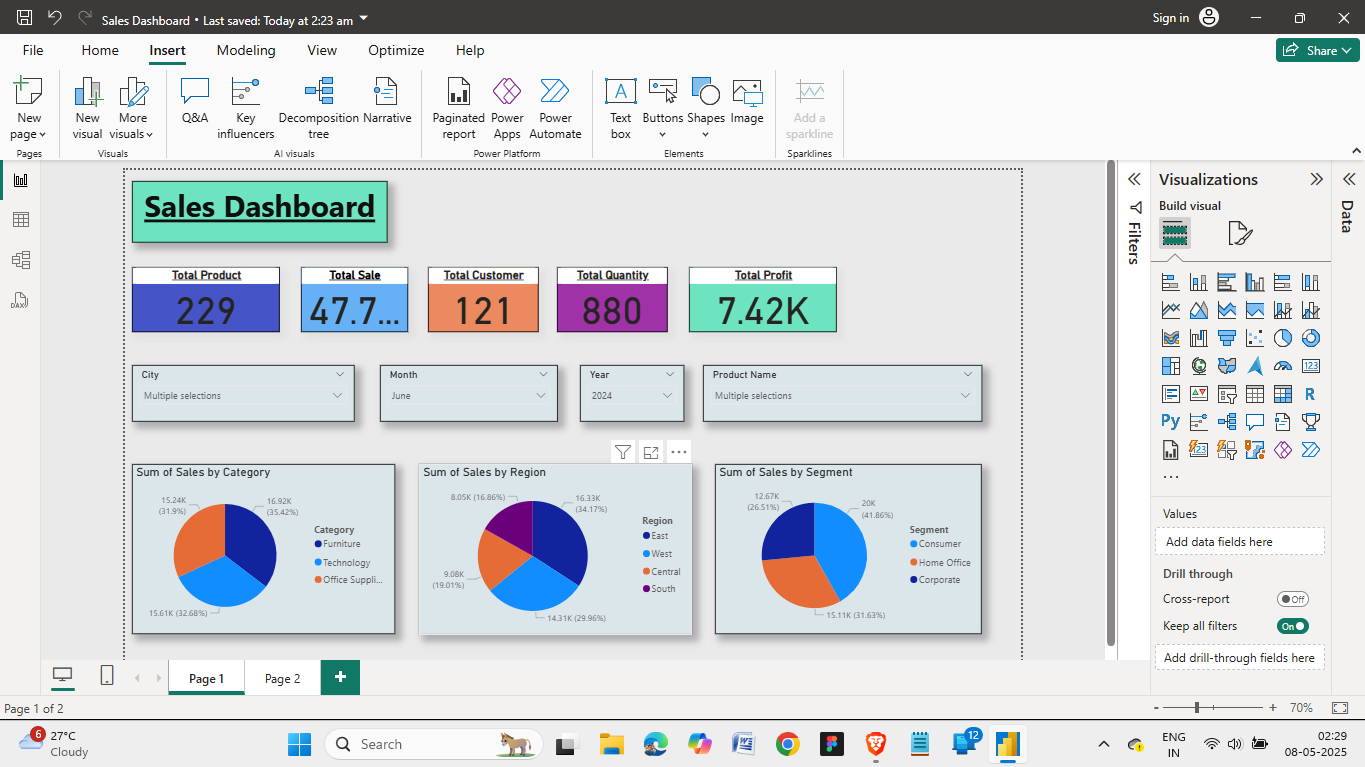

This screenshot's page, from the dashboard's own definition file:
{"tool":"powerbi","page":{"name":"Page 1","canvas":[1280,720],"ordinal":0},"visuals":[{"type":"textbox","box":[10,16.2,365,87.5],"z":0},{"type":"slicer","fields":{"Values":["Sales Overview Data xlsx - Sales Data.City"]},"box":[10,278.8,317.5,81.2],"z":1000},{"type":"slicer","fields":{"Values":["Sales Overview Data xlsx - Sales Data.Product Name"]},"box":[825,278.8,398.8,81.2],"z":2000},{"type":"slicer","fields":{"Values":["Sales Overview Data xlsx - Sales Data.Order Date.Variation.Date Hierarchy.Month"]},"box":[363.8,278.8,253.8,81.2],"z":3000},{"type":"slicer","fields":{"Values":["Sales Overview Data xlsx - Sales Data.Order Date.Variation.Date Hierarchy.Year"]},"box":[650,278.8,148.8,81.2],"z":4000},{"type":"card","title":"Total Sale","fields":{"Values":["Sum(Sales Overview Data xlsx - Sales Data.Sales)"]},"box":[251.2,138.8,152.5,92.5],"z":5000},{"type":"card","title":"Total Profit","fields":{"Values":["Sum(Sales Overview Data xlsx - Sales Data.Profit)"]},"box":[806.2,138.8,211.2,92.5],"z":6000},{"type":"card","title":"Total Quantity","fields":{"Values":["Sum(Sales Overview Data xlsx - Sales Data.Quantity)"]},"box":[617.5,138.8,157.5,92.5],"z":7000},{"type":"card","title":"Total Customer","fields":{"Values":["Count(Sales Overview Data xlsx - Sales Data.Customer ID)"]},"box":[432.5,138.8,157.5,92.5],"z":8000},{"type":"card","title":"Total Product","fields":{"Values":["CountNonNull(Sales Overview Data xlsx - Sales Data.Product ID)"]},"box":[10,138.8,211.2,92.5],"z":9000},{"type":"pieChart","fields":{"Y":["Sum(Sales Overview Data xlsx - Sales Data.Sales)"],"Category":["Sales Overview Data xlsx - Sales Data.Category"]},"box":[10,420,376.2,242.5],"z":10000},{"type":"pieChart","fields":{"Y":["Sum(Sales Overview Data xlsx - Sales Data.Sales)"],"Category":["Sales Overview Data xlsx - Sales Data.Region"]},"box":[420,420,390,243.8],"z":11000},{"type":"pieChart","fields":{"Y":["Sum(Sales Overview Data xlsx - Sales Data.Sales)"],"Category":["Sales Overview Data xlsx - Sales Data.Segment"]},"box":[842.5,420,381.2,242.5],"z":12000}]}

Visuals, with their boxes on the page's 1280x720 design canvas (x1, y1, x2, y2). These are canvas units, not pixel positions in the 1365x767 screenshot, which may show the page scaled, cropped or inside an application window:
textbox: (10, 16, 375, 104)
slicer - Sales Overview Data xlsx - Sales Data.City: (10, 279, 328, 360)
slicer - Sales Overview Data xlsx - Sales Data.Product Name: (825, 279, 1224, 360)
slicer - Sales Overview Data xlsx - Sales Data.Order Date.Variation.Date Hierarchy.Month: (364, 279, 618, 360)
slicer - Sales Overview Data xlsx - Sales Data.Order Date.Variation.Date Hierarchy.Year: (650, 279, 799, 360)
"Total Sale" card: (251, 139, 404, 231)
"Total Profit" card: (806, 139, 1017, 231)
"Total Quantity" card: (618, 139, 775, 231)
"Total Customer" card: (432, 139, 590, 231)
"Total Product" card: (10, 139, 221, 231)
pieChart - Sum(Sales Overview Data xlsx - Sales Data.Sales) x Sales Overview Data xlsx - Sales Data.Category: (10, 420, 386, 662)
pieChart - Sum(Sales Overview Data xlsx - Sales Data.Sales) x Sales Overview Data xlsx - Sales Data.Region: (420, 420, 810, 664)
pieChart - Sum(Sales Overview Data xlsx - Sales Data.Sales) x Sales Overview Data xlsx - Sales Data.Segment: (842, 420, 1224, 662)
